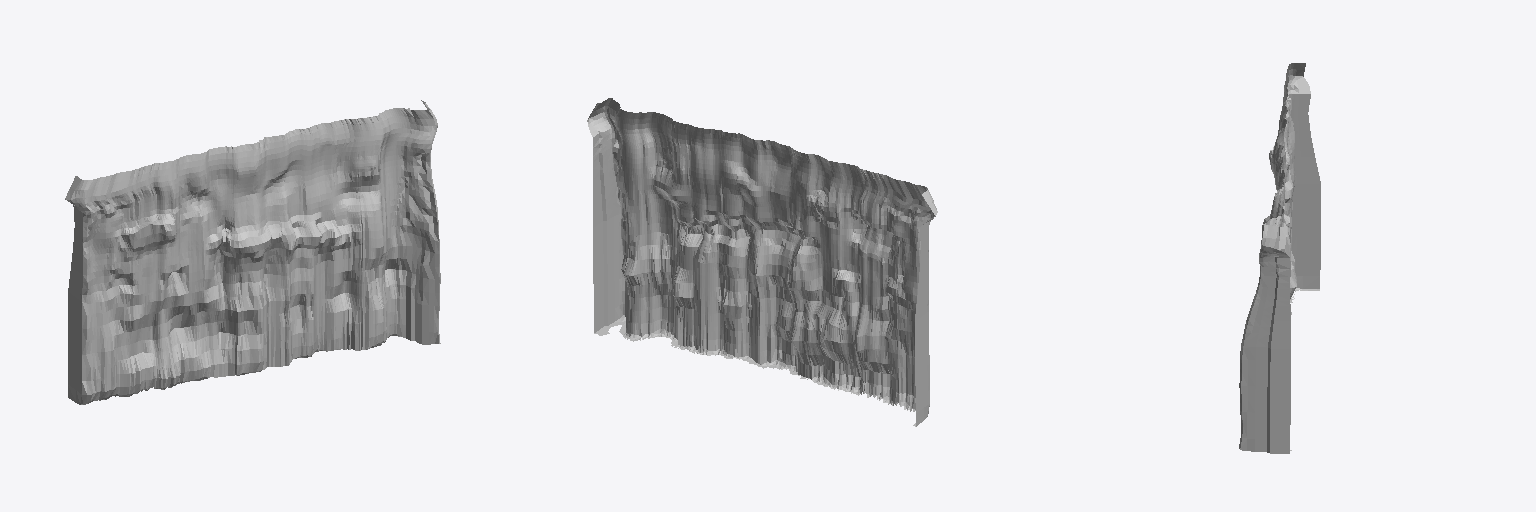
The model's file is cliffedge2.obj.
3 views of the same model, side by side, from view 1: azimuth 30°, elevation 25°; view 2: azimuth 150°, elevation 25°; view 3: azimuth 270°, elevation 25° (orthographic).
Visible parts, largest first — view 1: Mesh_Mesh_Mesh_Mesh_Mesh_eroded_plateau_hm.png_Mesh_Mesh_Mesh_er; view 2: Mesh_Mesh_Mesh_Mesh_Mesh_eroded_plateau_hm.png_Mesh_Mesh_Mesh_er; view 3: Mesh_Mesh_Mesh_Mesh_Mesh_eroded_plateau_hm.png_Mesh_Mesh_Mesh_er.
Boxes of the visible parts, x1,y1,x2,y2 form: Mesh_Mesh_Mesh_Mesh_Mesh_eroded_plateau_hm.png_Mesh_Mesh_Mesh_er: [65, 100, 440, 404]; Mesh_Mesh_Mesh_Mesh_Mesh_eroded_plateau_hm.png_Mesh_Mesh_Mesh_er: [587, 98, 937, 426]; Mesh_Mesh_Mesh_Mesh_Mesh_eroded_plateau_hm.png_Mesh_Mesh_Mesh_er: [1239, 63, 1320, 453].
Size of the model in its own units: 1089 by 669 by 217.